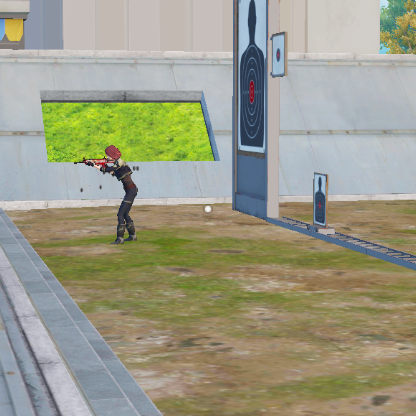ren: (97, 144, 136, 242)
tou: (103, 144, 122, 163)
